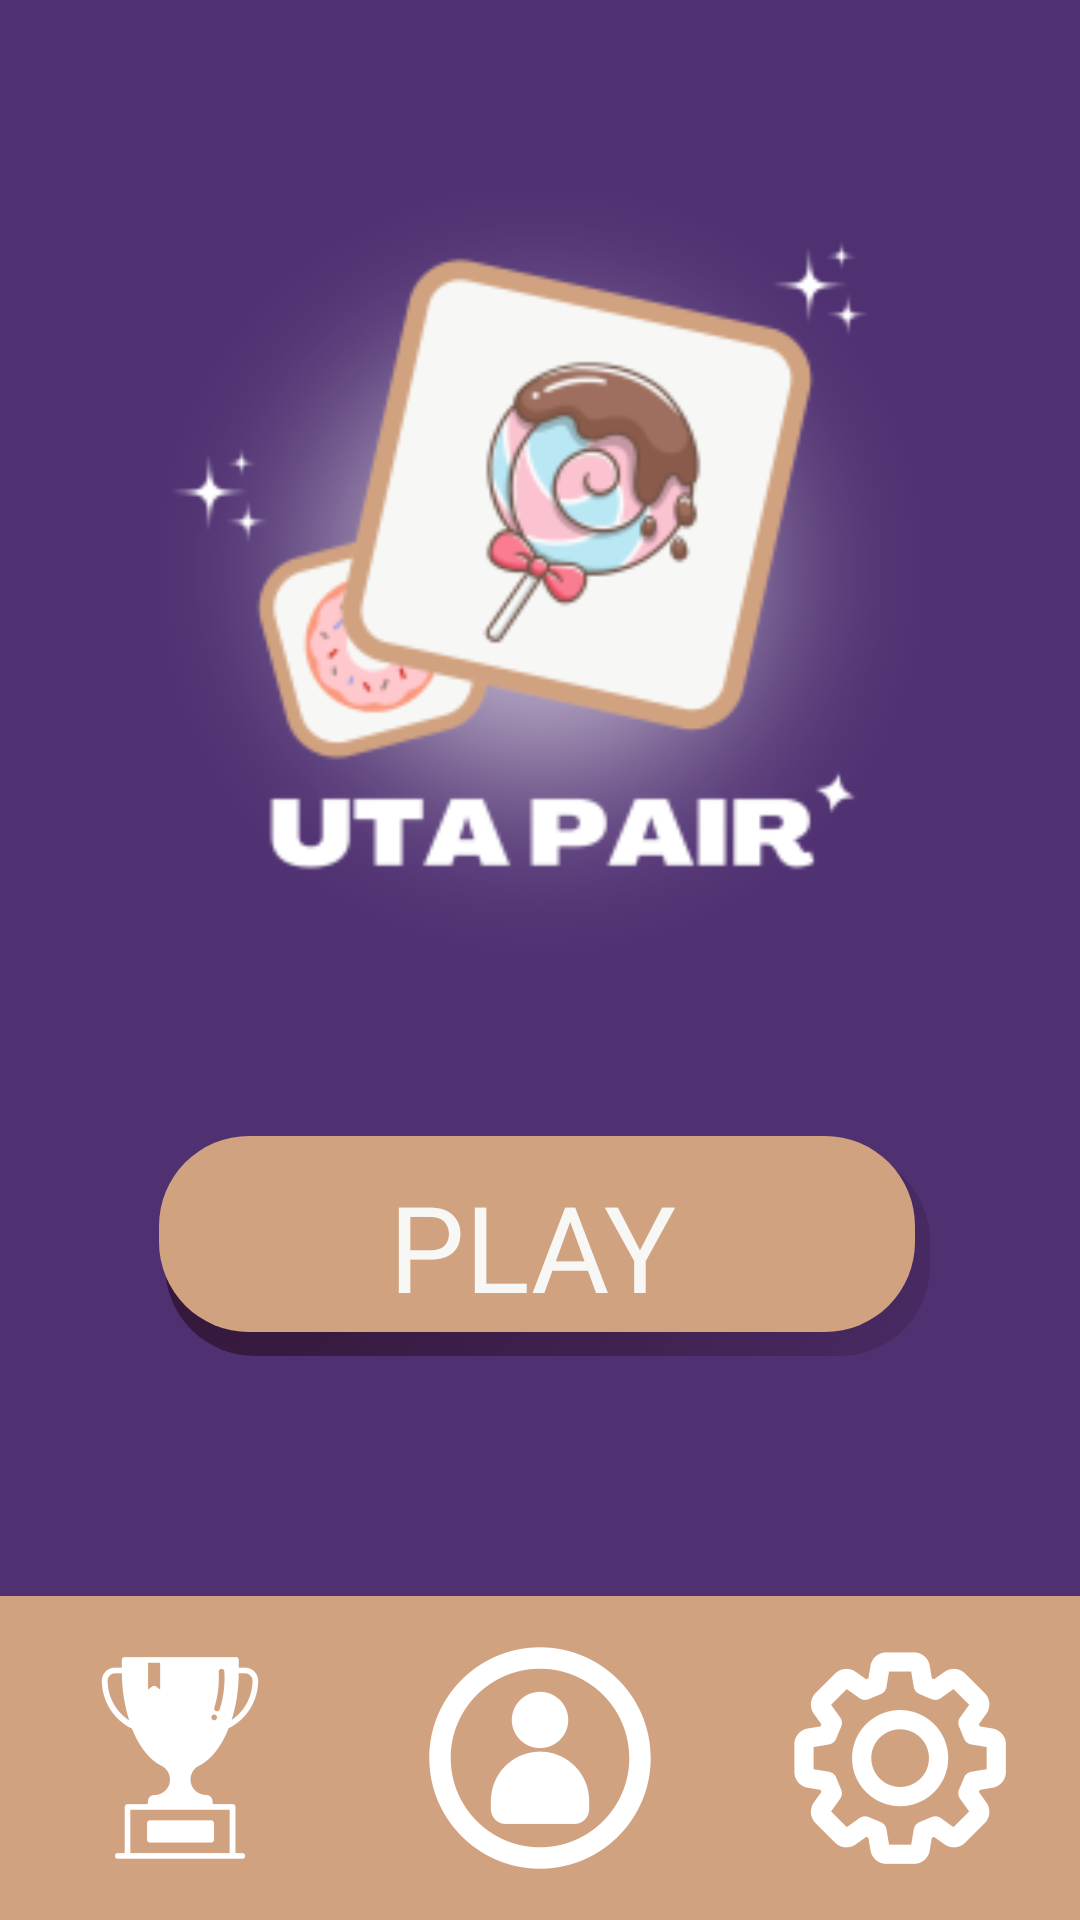

Point at icon controls on the screen. Image size 1080 × 1920, points as [x,y].
profile: [540,1758]
scoreboard: [180,1758]
setting: [900,1758]
